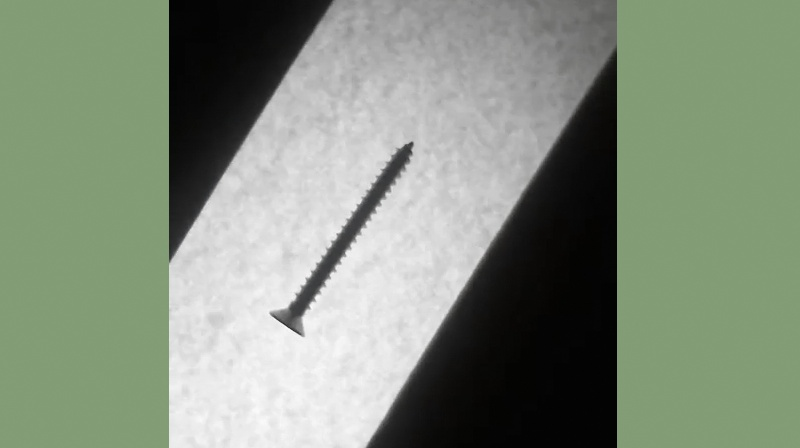S002: (266, 137, 415, 340)
